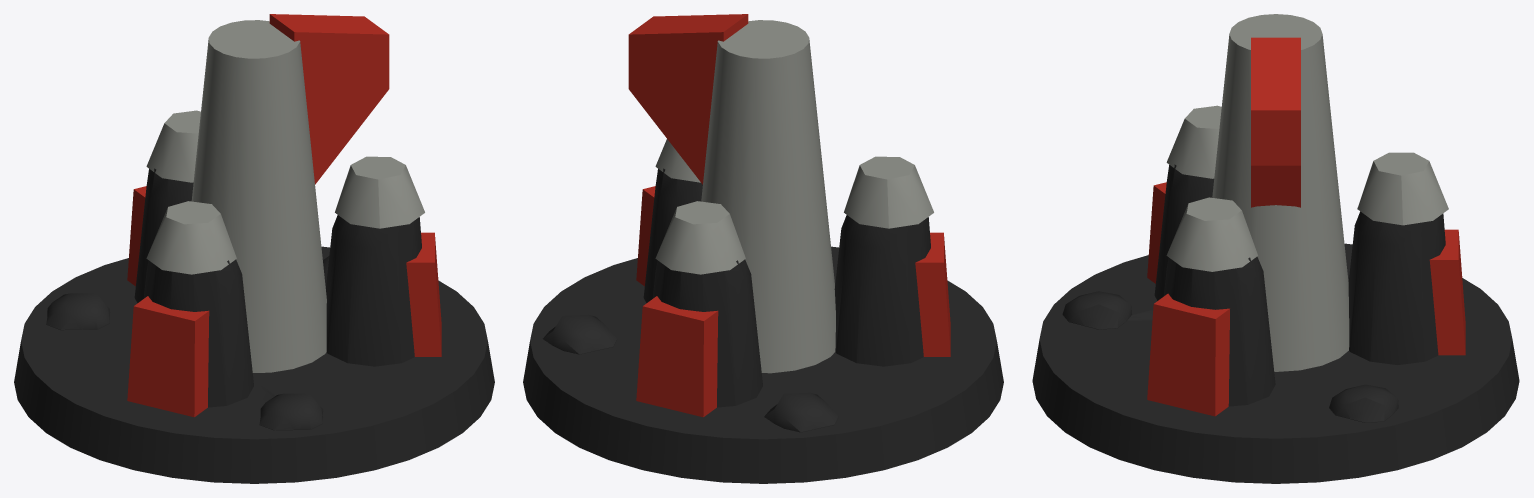
Rendered from ork_horde_1.glb.
3 renders of one model, left to right at view 1: azimuth 30°, elevation 25°; view 2: azimuth 150°, elevation 25°; view 3: azimuth 270°, elevation 25°, orthographic.
Parts seen in each view (by area): view 1: ork_horde_1; view 2: ork_horde_1; view 3: ork_horde_1.
Boxes of the visible parts, x1=… form: ork_horde_1: x1=14, y1=14, x2=494, y2=483; ork_horde_1: x1=523, y1=14, x2=1003, y2=483; ork_horde_1: x1=1032, y1=14, x2=1519, y2=483.
Size of the model in its own units: 13.6 by 11 by 13.6.
